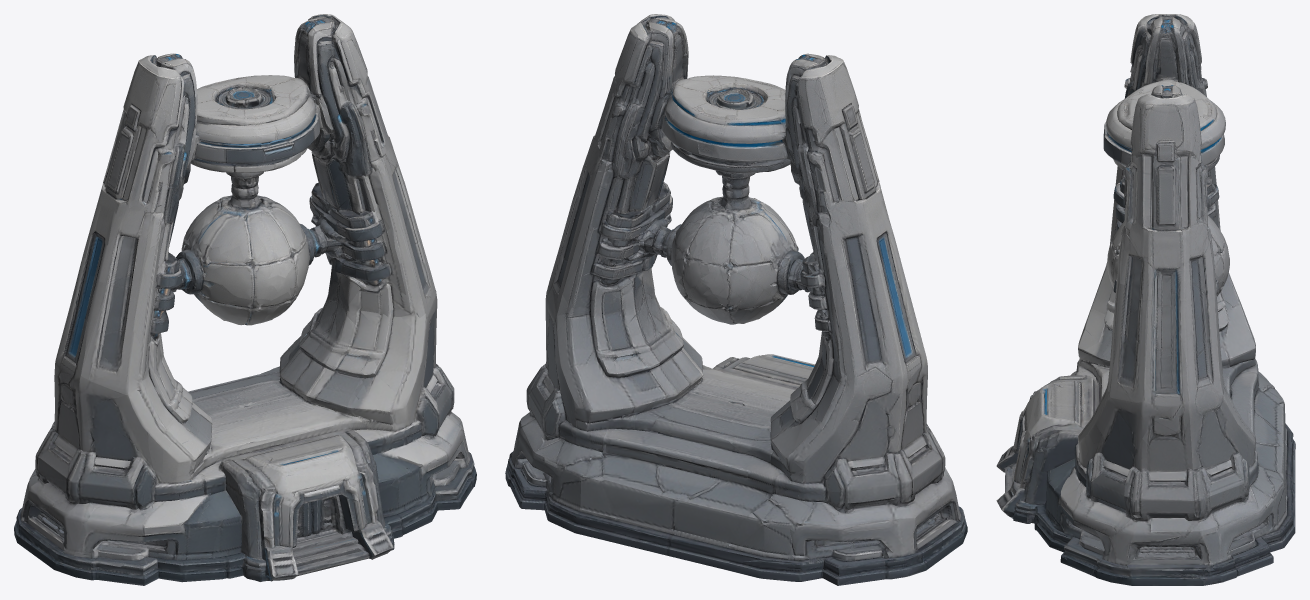
File: displacement-ring.glb
The picture shows the model from 3 angles, left to right: view 1: azimuth 30°, elevation 25°; view 2: azimuth 150°, elevation 25°; view 3: azimuth 270°, elevation 25°; orthographic projection. The views are drawn at different scales.
Parts seen in each view (by area): view 1: mesh_node; view 2: mesh_node; view 3: mesh_node.
Boxes of the visible parts, x1,y1,x2,y2 form: mesh_node: (14, 14, 476, 585); mesh_node: (505, 14, 967, 585); mesh_node: (996, 14, 1295, 585).
Size of the model in its own units: 1.78 by 1.9 by 1.18.
Materials: 1 (1 with a texture image).
